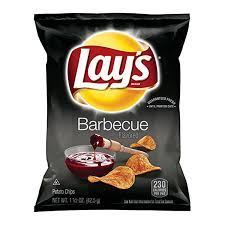lays-med: (33, 13, 193, 210)
